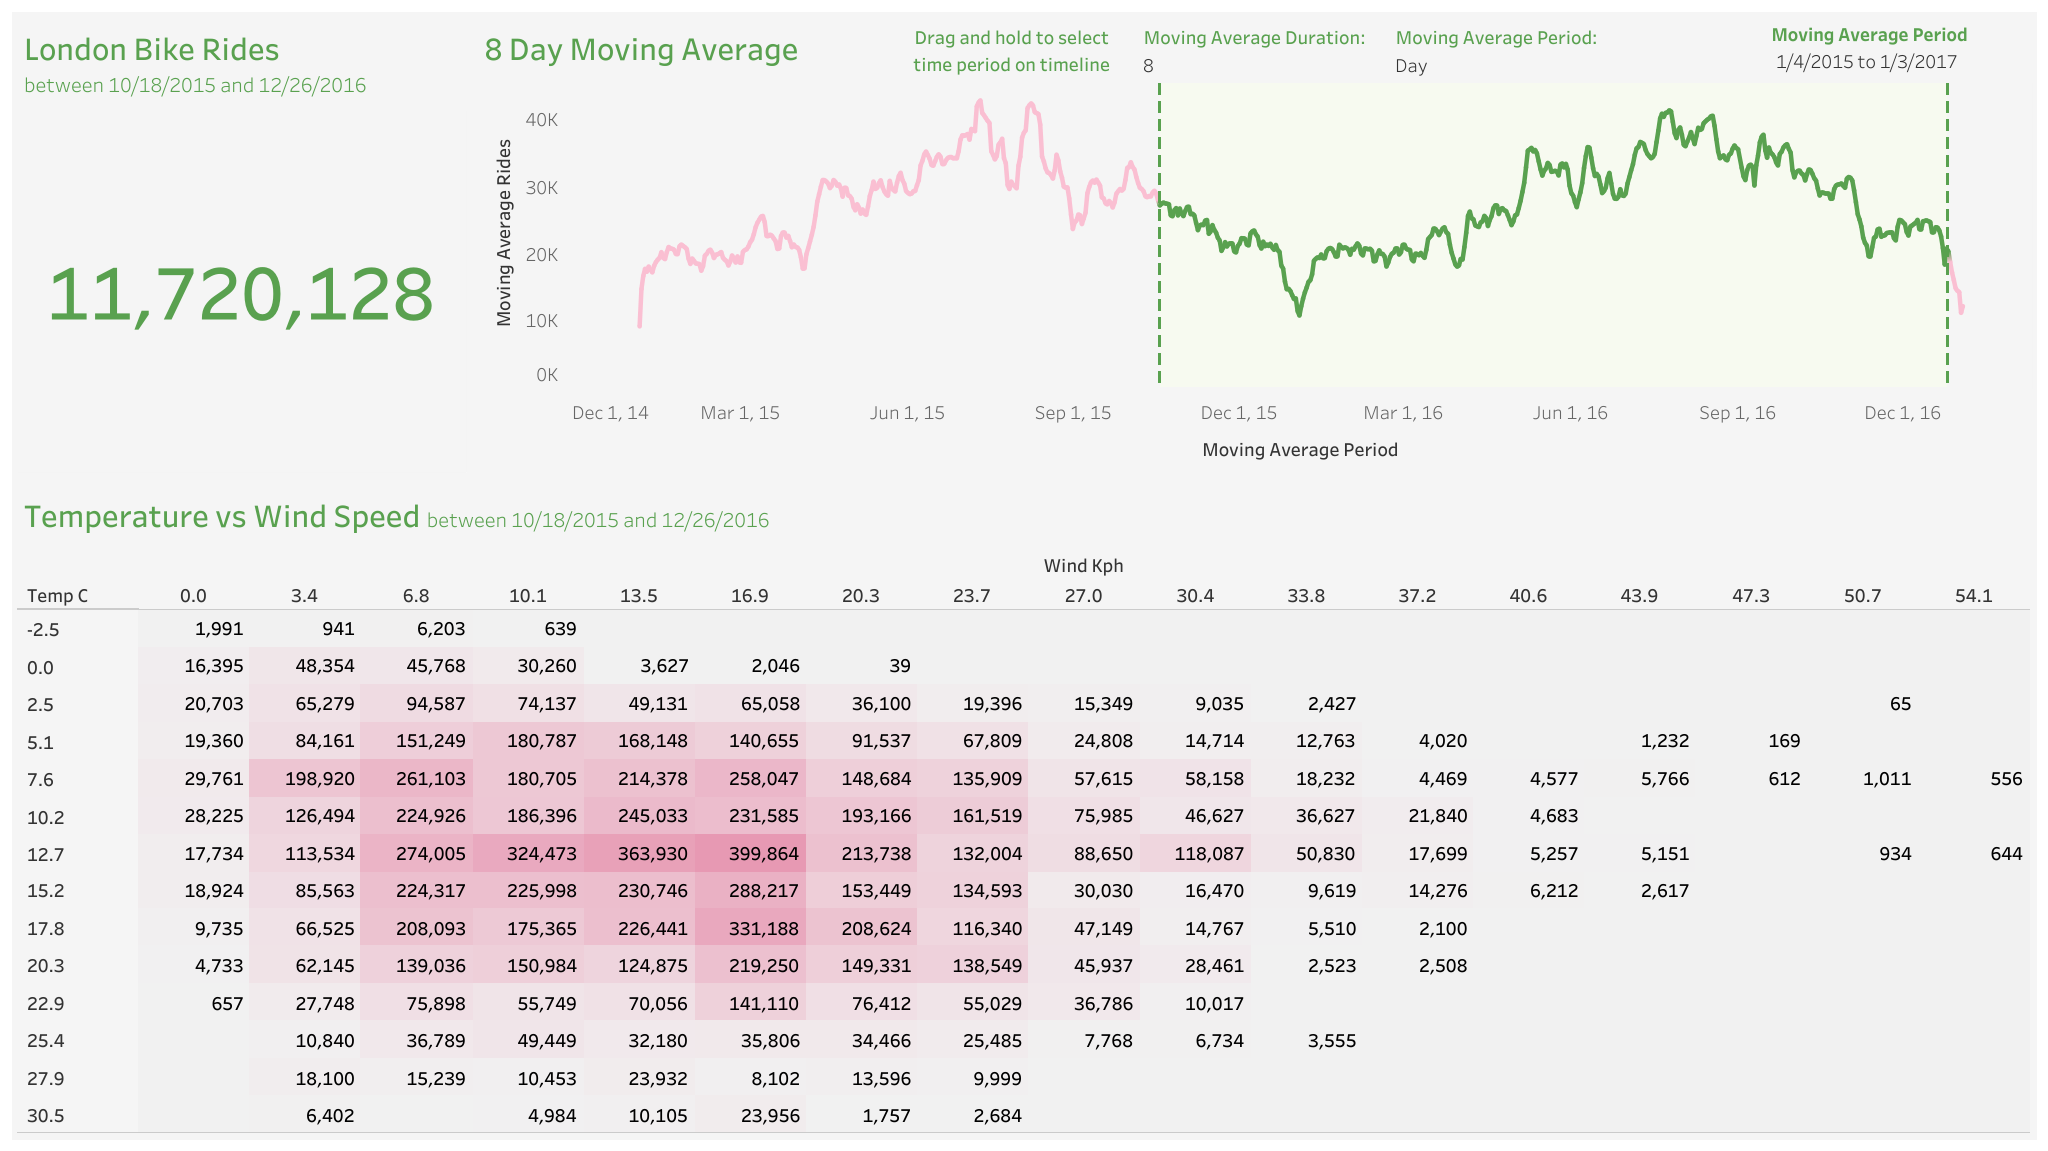

This screenshot's page, from the dashboard's own definition file:
{"tool":"tableau","page":{"name":"Dashboard 1","canvas":[1366,768],"ordinal":0},"visuals":[{"type":"worksheet","title":"Total Rides","mark":"Automatic","box":[8,8,307,311]},{"type":"worksheet","title":"Moving Average","mark":"Automatic","rows":["Calculation1"],"cols":["Calculation_0014098408648777"],"box":[315,8,1043,311]},{"type":"text","box":[760,9,150,30]},{"type":"text","box":[928,9,150,30]},{"type":"filter","title":"Moving Average","param":"[federated.0vnzgbo03twfom1240jea0fkjgzf].[none:Calculation_0014098408648777:qk]","box":[1181,12,168,70]},{"type":"text","box":[606,15,137,36]},{"type":"parameter","param":"[Parameters].[Parameter 2]","box":[760,34,160,48]},{"type":"parameter","param":"[Parameters].[Parameter 1]","box":[928,34,160,48]},{"type":"worksheet","title":"Heatmap","mark":"Square","rows":["temp real C (bin)"],"cols":["Wind Speed Kph (bin)"],"box":[8,319,1350,441]}]}

Visuals, with their boxes in screenshot pixels (x1, y1, x2, y2), scaled from the page's 1366x768 canvas onto the 2048x1151 screenshot:
"Total Rides" worksheet: x1=12 y1=12 x2=472 y2=478
"Moving Average" worksheet: x1=472 y1=12 x2=2036 y2=478
text: x1=1139 y1=13 x2=1364 y2=58
text: x1=1391 y1=13 x2=1616 y2=58
"Moving Average" filter: x1=1771 y1=18 x2=2023 y2=123
text: x1=909 y1=22 x2=1114 y2=76
parameter: x1=1139 y1=51 x2=1379 y2=123
parameter: x1=1391 y1=51 x2=1631 y2=123
"Heatmap" worksheet (Square marks): x1=12 y1=478 x2=2036 y2=1139
